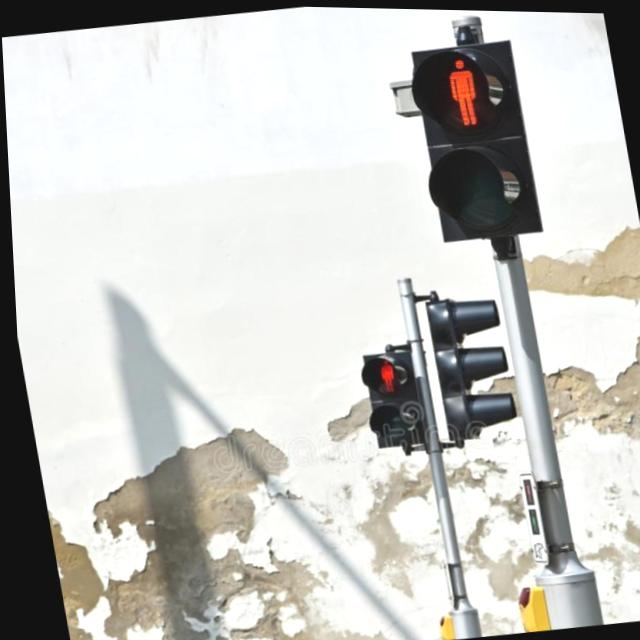red_light: (412, 41, 516, 138)
